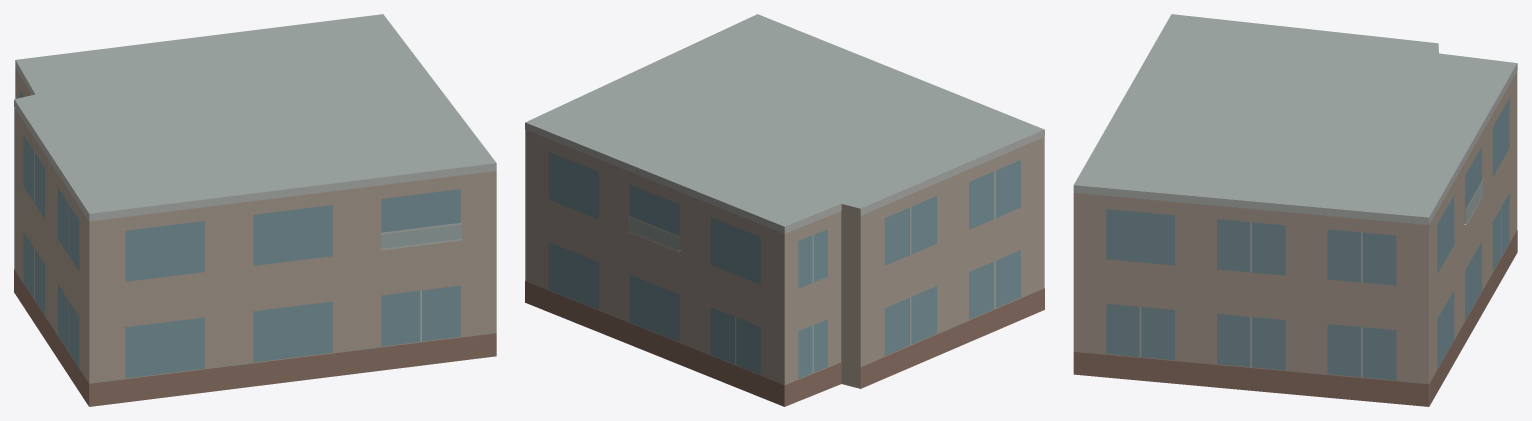
The model's file is survey-upis-32695830.glb.
The picture shows the model from 3 angles, left to right: view 1: azimuth 30°, elevation 25°; view 2: azimuth 150°, elevation 25°; view 3: azimuth 270°, elevation 25°; orthographic projection. The views are drawn at different scales.
Parts seen in each view (by area): view 1: survey-upis-32695830.tmp; view 2: survey-upis-32695830.tmp; view 3: survey-upis-32695830.tmp.
Part boxes in pixels (x1=…): survey-upis-32695830.tmp: x1=14, y1=14, x2=496, y2=406; survey-upis-32695830.tmp: x1=525, y1=14, x2=1044, y2=406; survey-upis-32695830.tmp: x1=1073, y1=14, x2=1517, y2=406.
Bounding box in the file's own units: 14.08 × 6.1 × 12.97.
